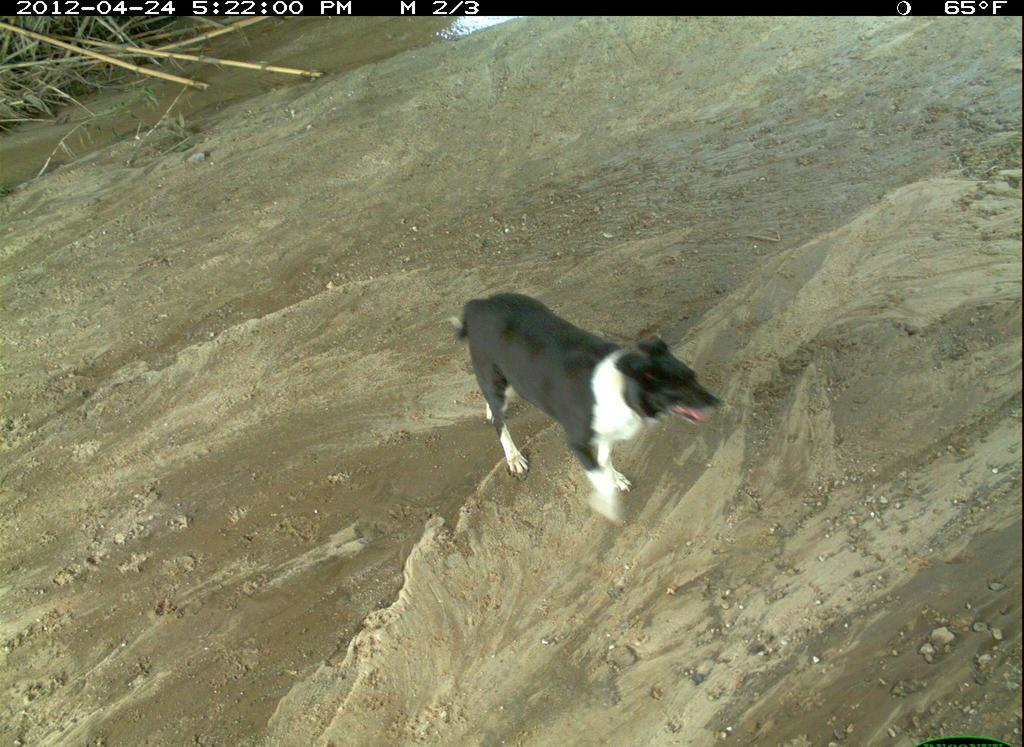dog: (900, 579, 1024, 747)
